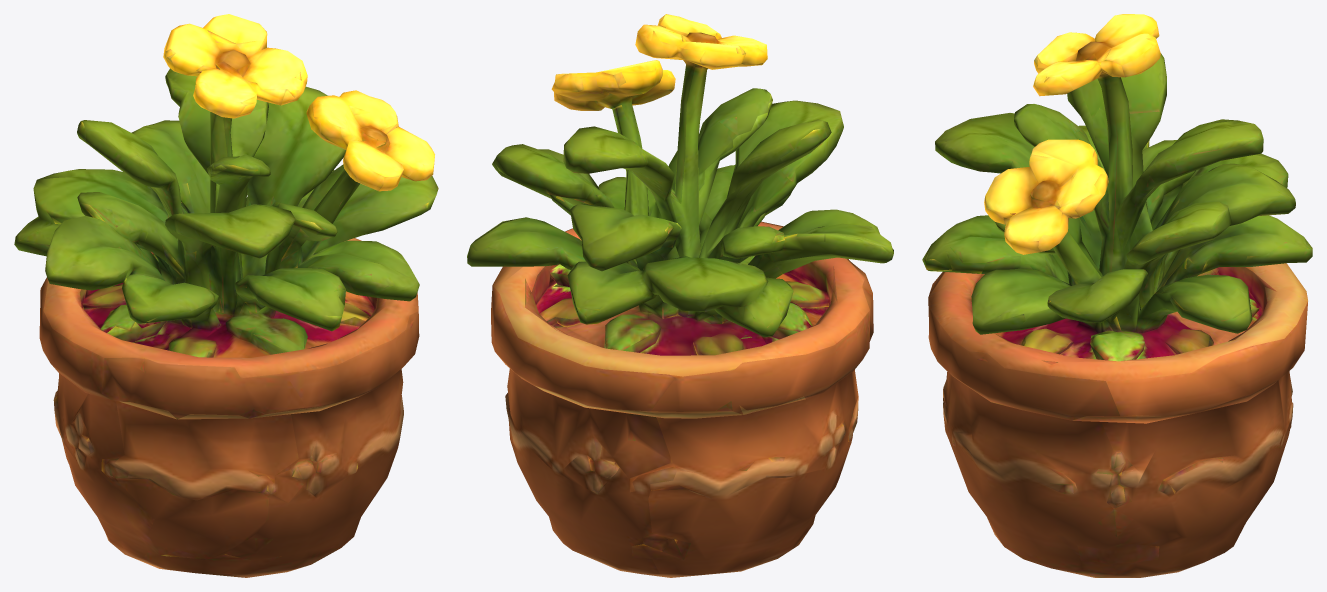
Rendered from flower-pot.glb.
3 views of the same model, side by side, from view 1: azimuth 30°, elevation 25°; view 2: azimuth 150°, elevation 25°; view 3: azimuth 270°, elevation 25° (orthographic).
Visible parts, largest first — view 1: Mesh1.0; view 2: Mesh1.0; view 3: Mesh1.0.
Boxes of the visible parts, <box> form: Mesh1.0: <box>14,14,438,577</box>; Mesh1.0: <box>467,14,893,577</box>; Mesh1.0: <box>922,14,1312,577</box>.
Size of the model in its own units: 1.54 by 1.89 by 1.34.
Materials: 1 (1 with a texture image).
